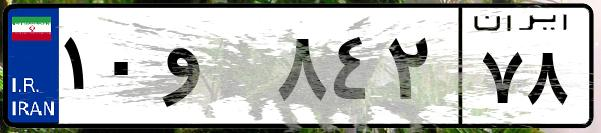0: (110, 28, 158, 98)
1: (57, 26, 110, 100)
2: (385, 28, 445, 110)
4: (330, 28, 385, 110)
7: (475, 38, 525, 113)
8: (270, 28, 330, 110), (525, 38, 570, 115)
و: (158, 20, 270, 120)
